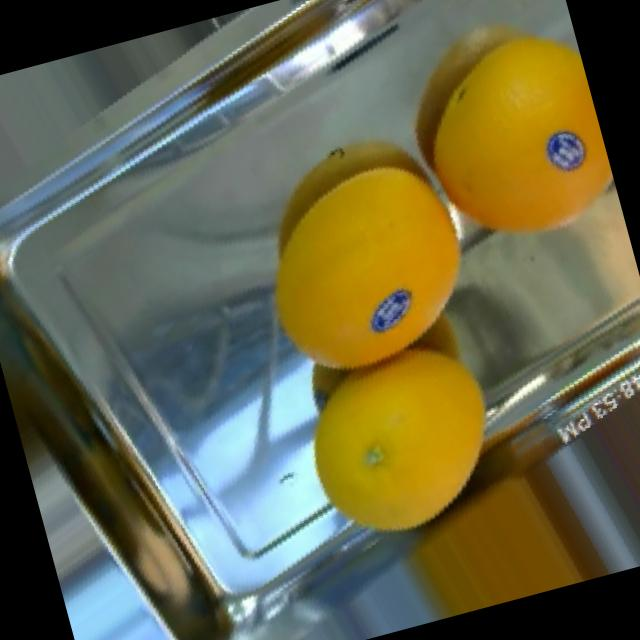Fruit: (266, 318, 518, 580)
